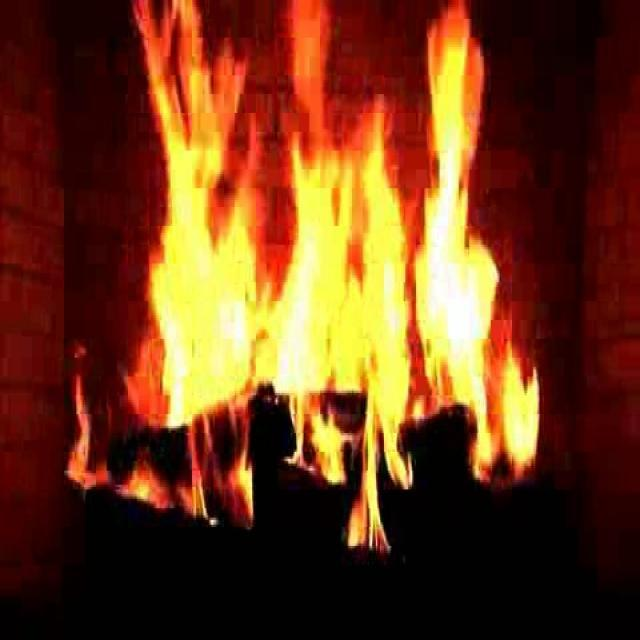Fire: (62, 0, 556, 541), (100, 0, 489, 104)
